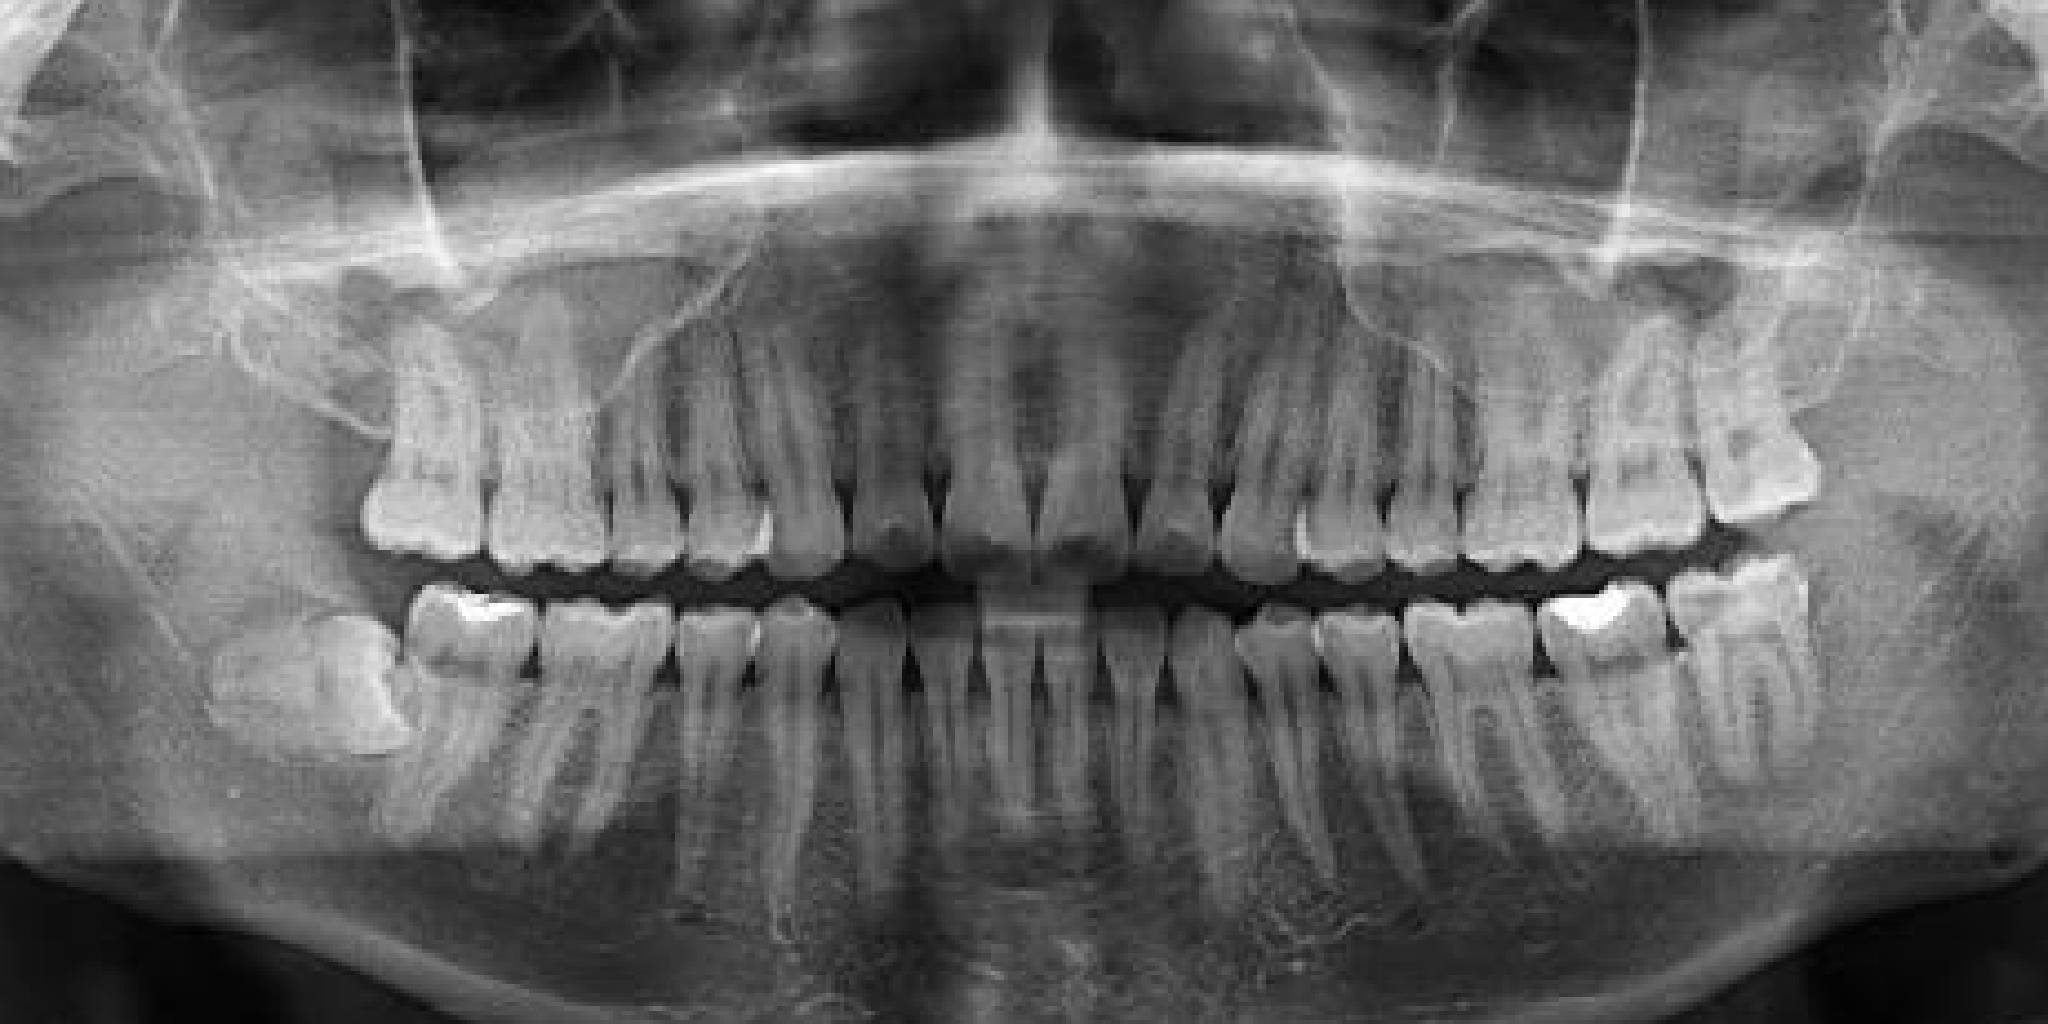Tooth: (91, 503, 496, 940), (1458, 488, 1813, 935), (280, 511, 598, 953), (1361, 221, 1657, 660), (1505, 195, 1796, 631), (640, 212, 931, 648), (1607, 176, 1878, 607), (1006, 543, 1277, 974), (566, 533, 837, 964), (287, 199, 555, 626), (1226, 226, 1468, 645), (593, 222, 835, 641), (953, 545, 1194, 964), (859, 213, 1100, 632), (525, 225, 765, 643), (667, 554, 903, 970), (897, 532, 1131, 948), (1306, 231, 1533, 644), (1634, 481, 1861, 893), (760, 559, 981, 969), (976, 223, 1196, 633), (839, 542, 1053, 950)
